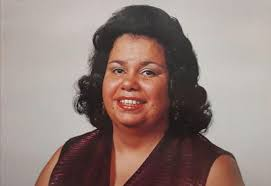black_female: (98, 19, 184, 139)
